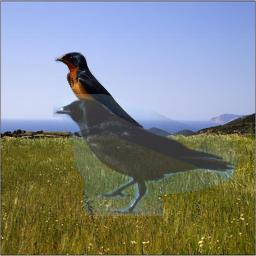Crow: (53, 94, 238, 216)
Swallow: (54, 52, 144, 135)
